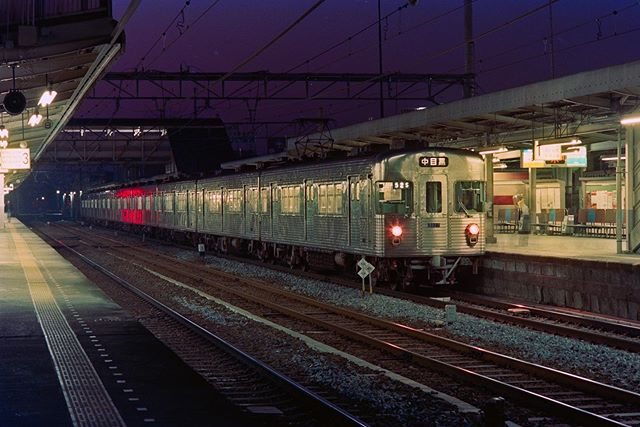train: (63, 153, 489, 263)
train track: (61, 225, 640, 427)
